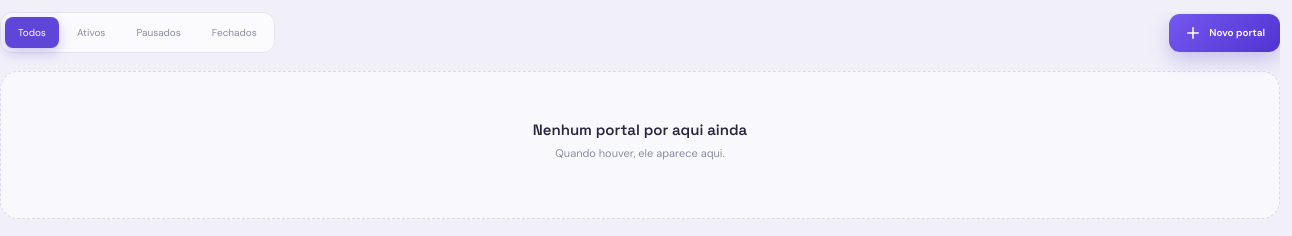
Test case: PortalsSection › mostra o estado vazio do filtro
This screenshot has width=1292, height=236.
Click the tab "Pausados" at {"x": 159, "y": 32}, box x1=123 y1=17 x2=194 y2=48
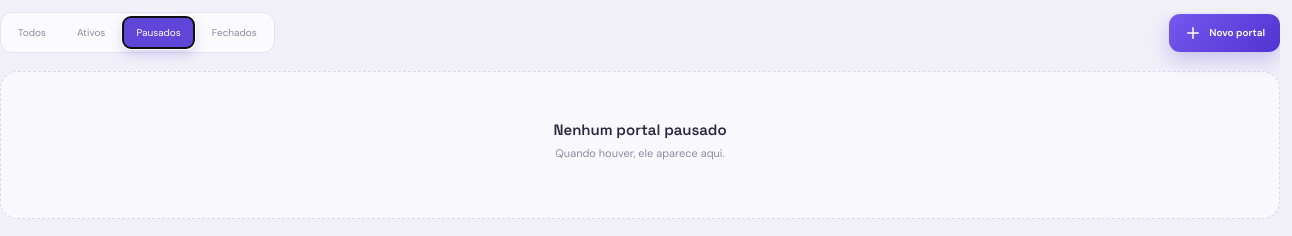
expect the text "Nenhum portal pausado" is shown: met, box x1=553 y1=120 x2=727 y2=139
